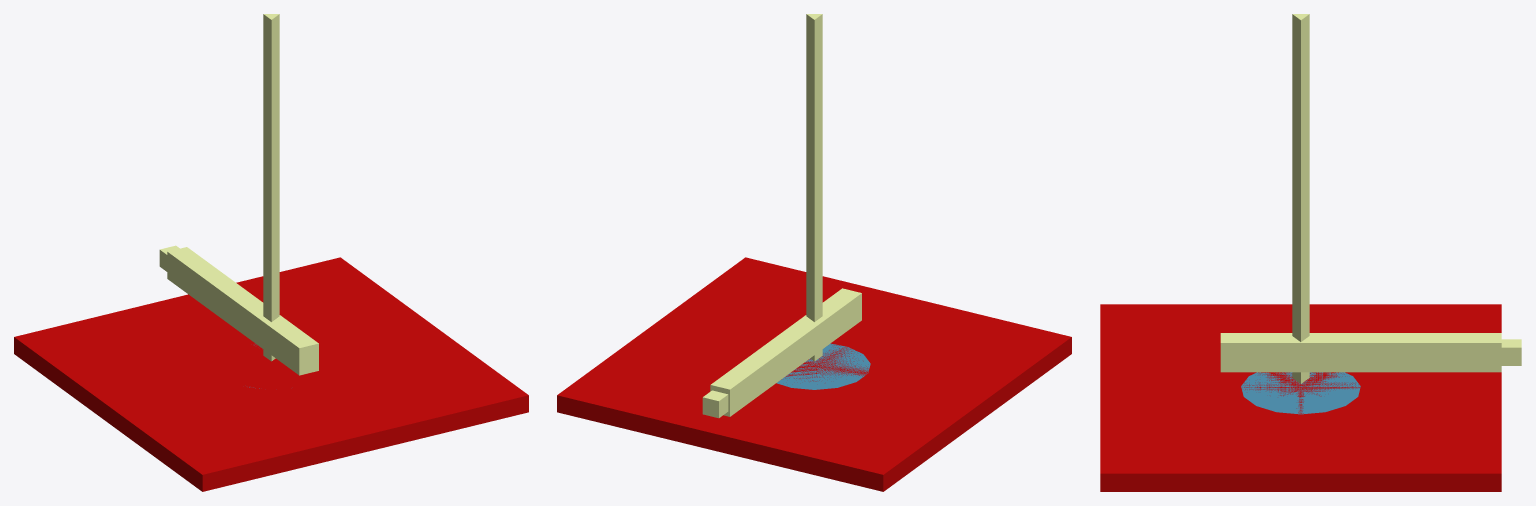
File: cylindrical.dae
3 views of the same model, side by side, from view 1: azimuth 30°, elevation 25°; view 2: azimuth 150°, elevation 25°; view 3: azimuth 270°, elevation 25° (orthographic). The views are drawn at different scales.
Parts seen in each view (by area): view 1: base_link, link_2, link_1; view 2: base_link (×2), link_2, link_1, link_3; view 3: base_link (×2), link_2, link_1, link_3.
Part boxes in pixels (box(x1,y1,x2,y2)): base_link: box(14, 257, 528, 491); link_2: box(167, 247, 318, 375); link_1: box(263, 14, 279, 361); base_link (×2): box(557, 257, 1071, 491); link_2: box(710, 288, 861, 416); link_1: box(806, 14, 822, 361); link_3: box(702, 390, 728, 418); base_link (×2): box(1100, 304, 1501, 491); link_2: box(1220, 333, 1501, 372); link_1: box(1292, 14, 1309, 383); link_3: box(1501, 339, 1521, 365).
Bounding box in the file's own units: 1 × 1.05 × 1.08.
